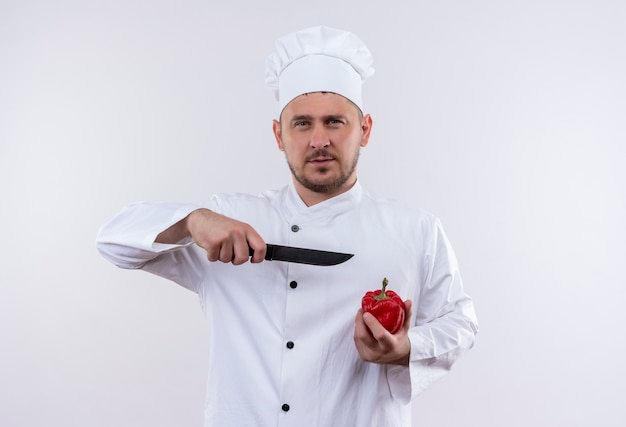knife: (267, 243, 353, 269)
